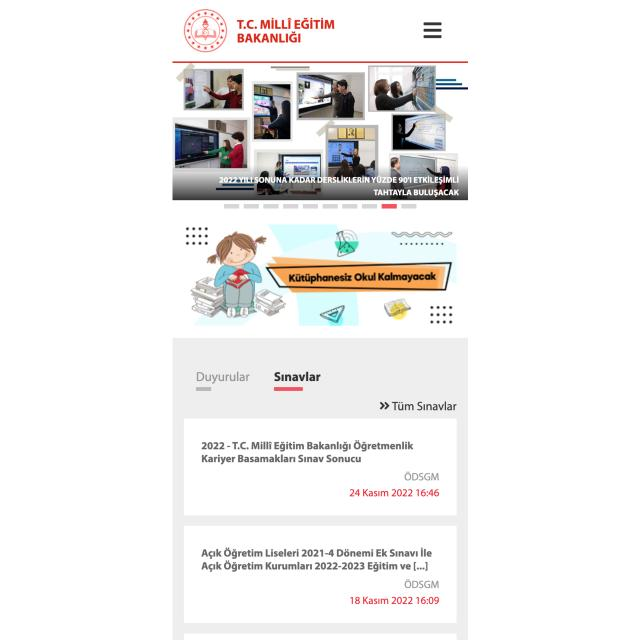logo: (184, 7, 336, 52)
navigation: (417, 18, 449, 44)
